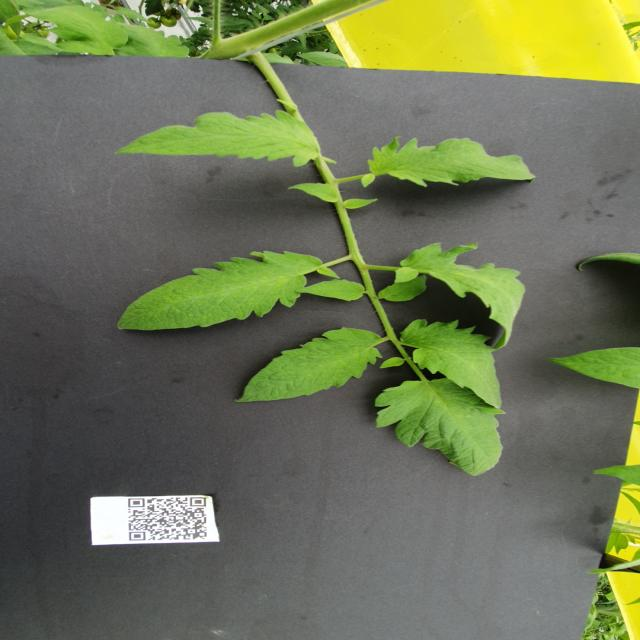Healthy Leaf: (115, 252, 340, 333), (396, 243, 526, 350), (377, 380, 507, 477), (115, 110, 323, 167), (237, 325, 381, 404), (363, 135, 538, 192), (399, 319, 503, 411), (29, 5, 129, 57), (544, 348, 640, 391), (296, 280, 366, 303), (379, 275, 428, 303), (288, 184, 341, 204), (297, 52, 350, 68)
